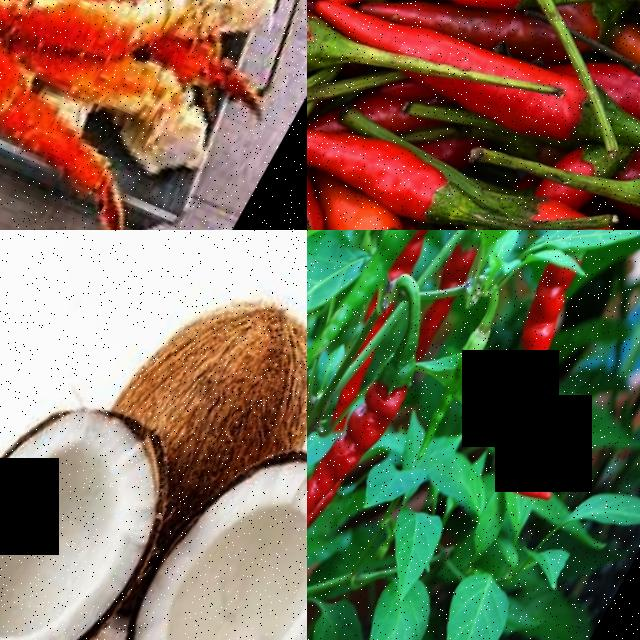chilli: (310, 0, 631, 201), (307, 340, 428, 640), (307, 67, 496, 230), (475, 259, 614, 443), (366, 0, 554, 73), (483, 174, 640, 230)
coconut: (0, 362, 212, 640), (102, 254, 307, 516), (87, 416, 307, 640)
crab: (0, 0, 307, 230)
